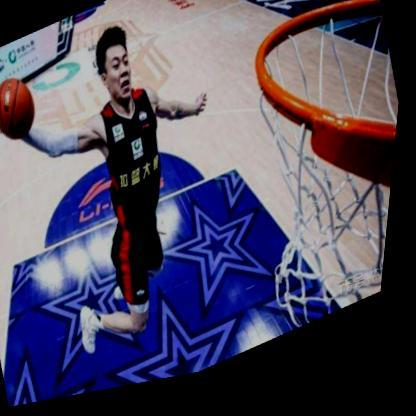basketball: (0, 66, 47, 150)
rim: (208, 0, 412, 358)
